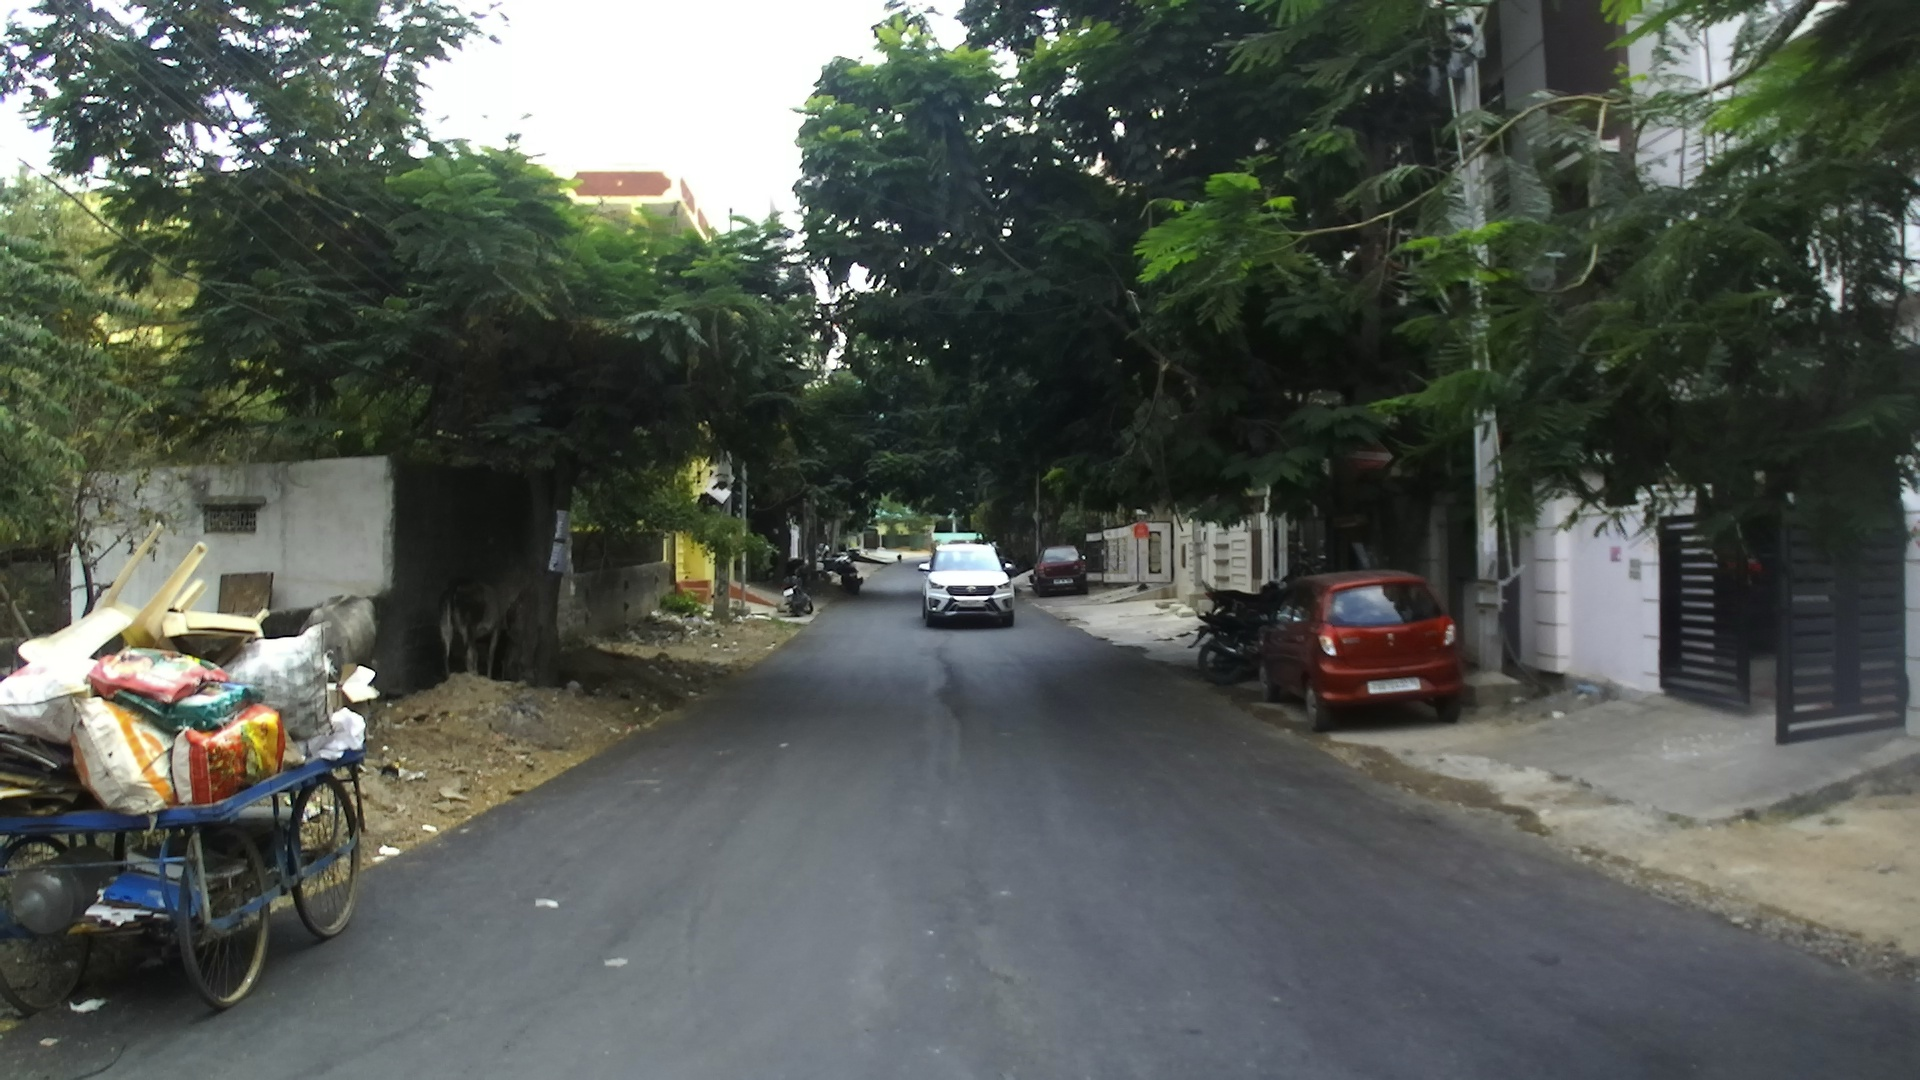vehicle: (0, 524, 382, 1017), (1257, 568, 1470, 728), (916, 537, 1015, 628), (1033, 546, 1087, 593), (818, 556, 860, 593), (778, 587, 811, 617)
